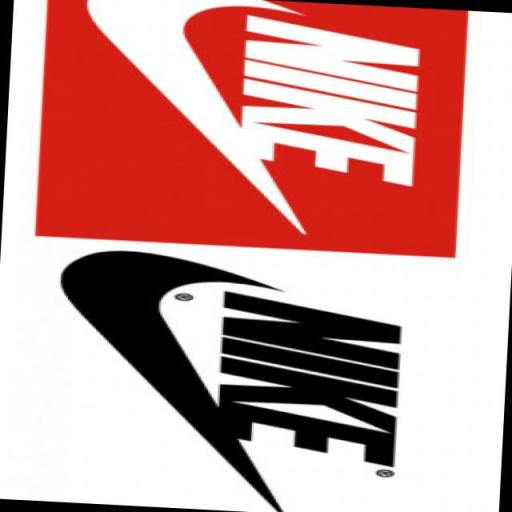Nike: (54, 248, 260, 472), (210, 291, 402, 468)
